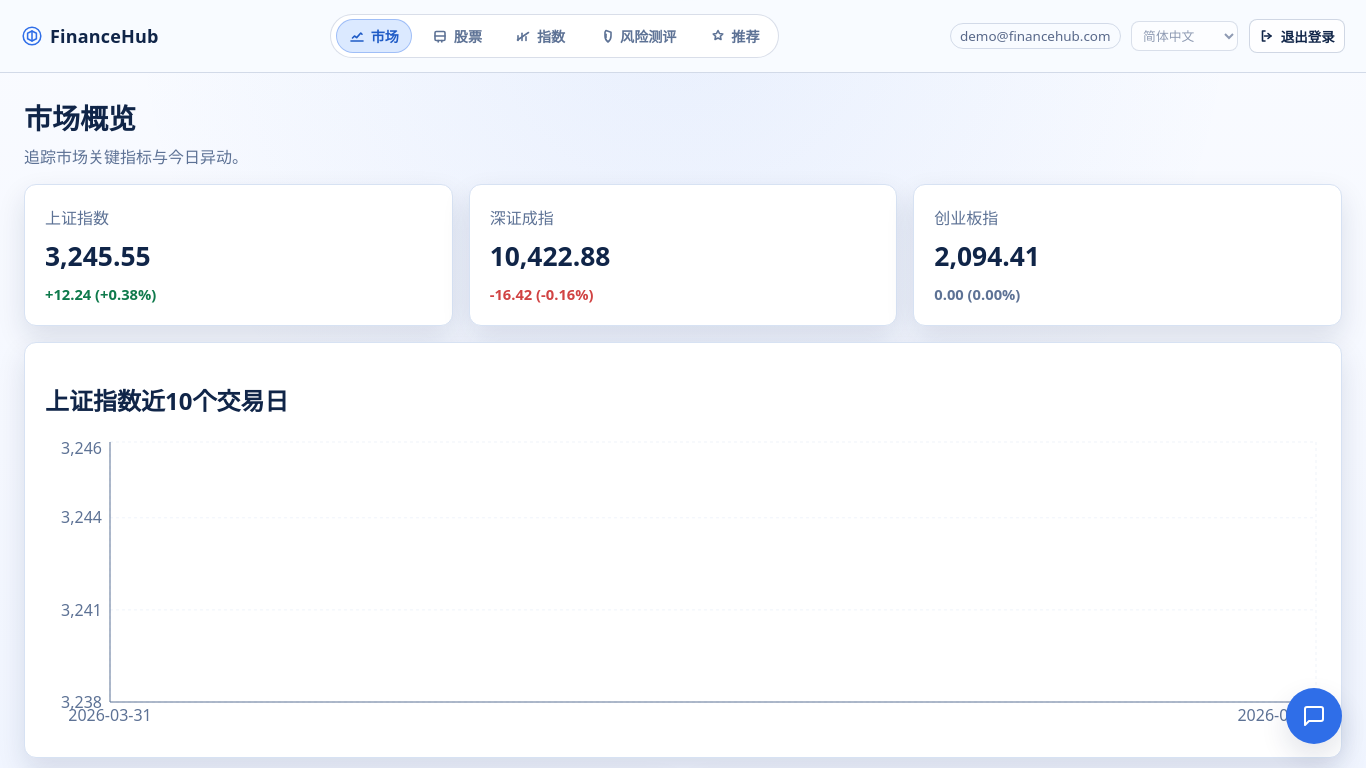
Scenario: App routing shell › renders the top navigation in Chinese by default and switches nav chrome to English
Expected: the link "市场" is shown, [336,19,412,53]
Expected: the link "股票" is shown, [432,27,482,46]
Select "English (US)" in the dropdown at [1185, 36], box [1131,21,1238,51]
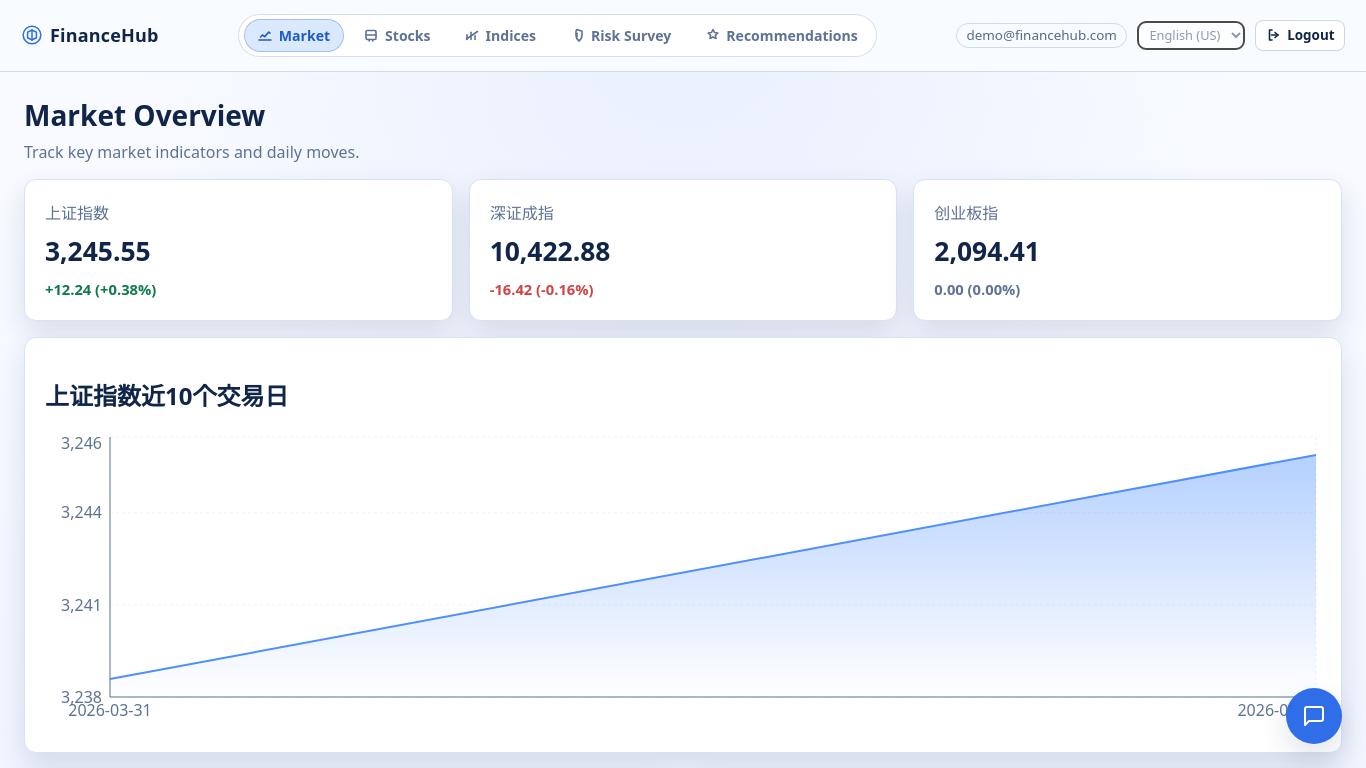
Expected: the link "Stocks" is shown, [363,26,430,45]
Result: the link "Market" is shown at [244,19,344,52]
Result: the heading "Market Overview" is shown at [24,96,265,134]
